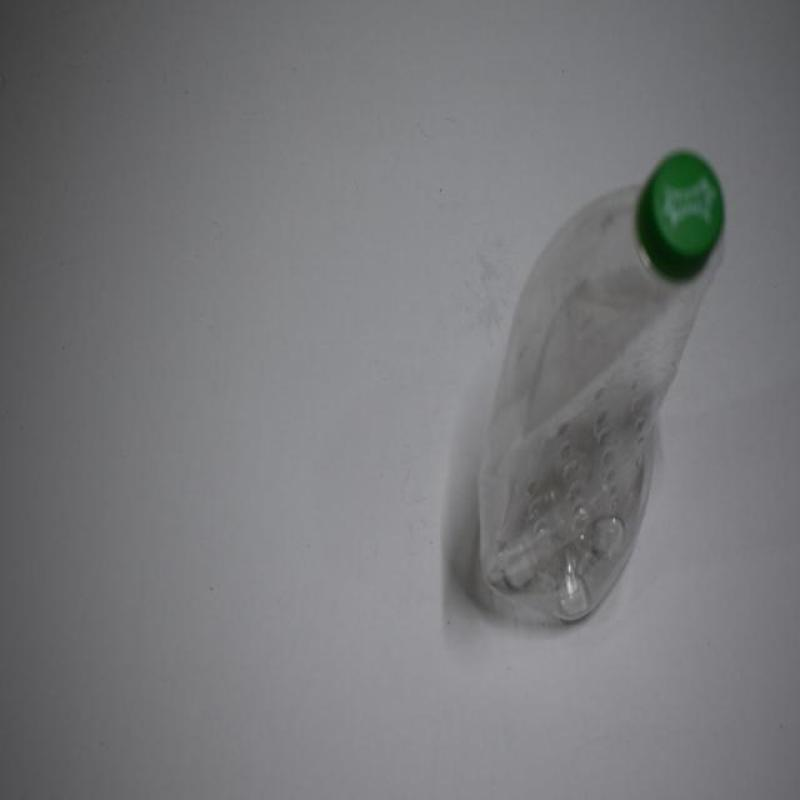botella: (476, 153, 723, 628)
